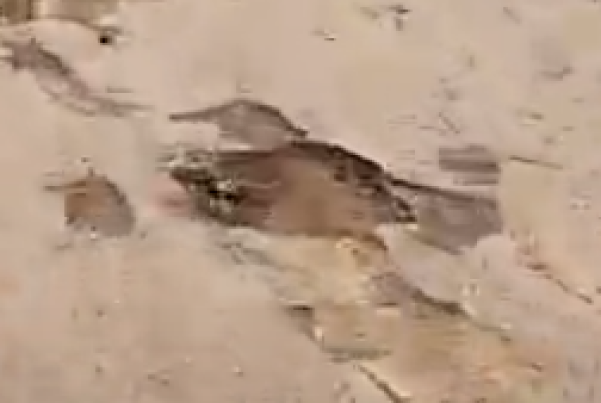Berlubang: (128, 93, 485, 285)
